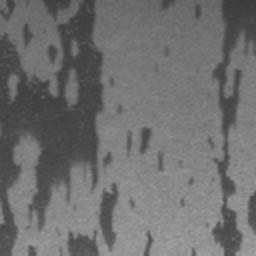Red iron sheet: (0, 0, 136, 256), (193, 0, 256, 255), (125, 128, 183, 173), (152, 41, 172, 73), (141, 232, 154, 256), (160, 0, 174, 9), (186, 177, 195, 188), (179, 197, 187, 207), (191, 246, 197, 256)
